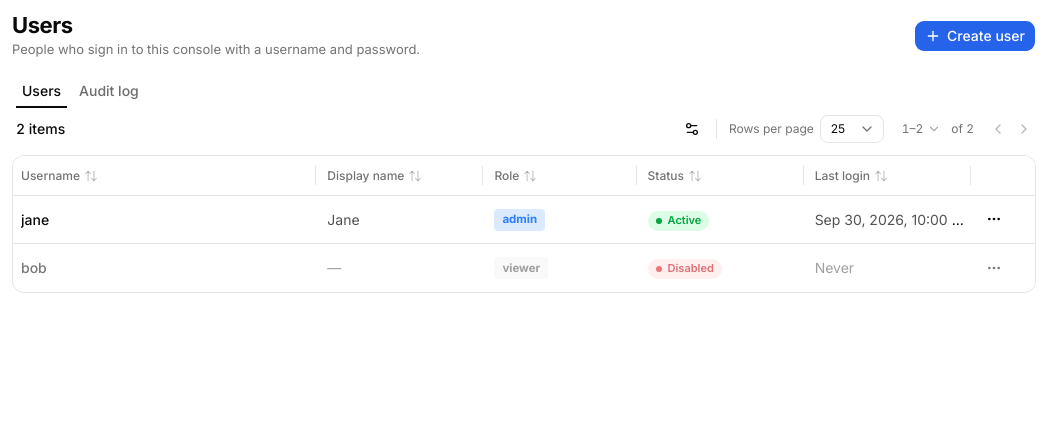
Test case: UsersPage › shows a self-action 409 message from the server
Check: the text "jane" is shown, box [21, 210, 49, 228]
Click the button named "Actions for jane" at (994, 219), box [982, 207, 1006, 231]
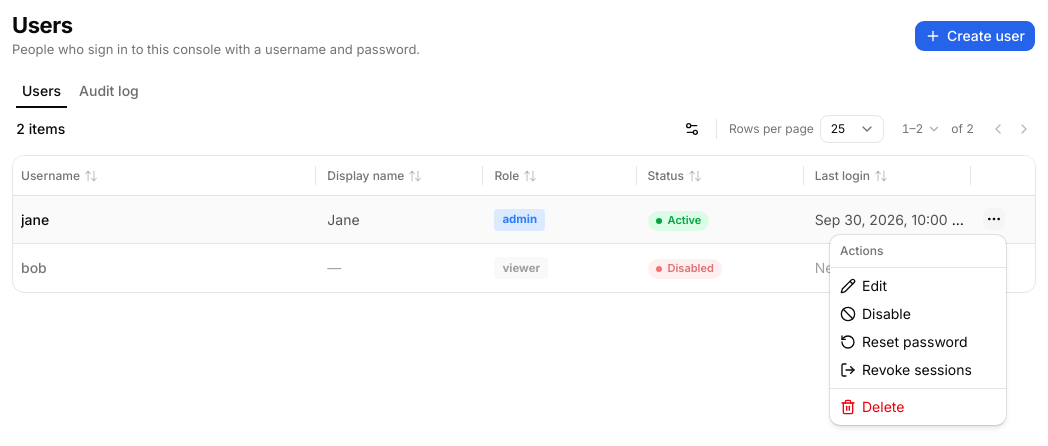
Click the menu item "Disable" at (875, 314), box [840, 305, 911, 322]
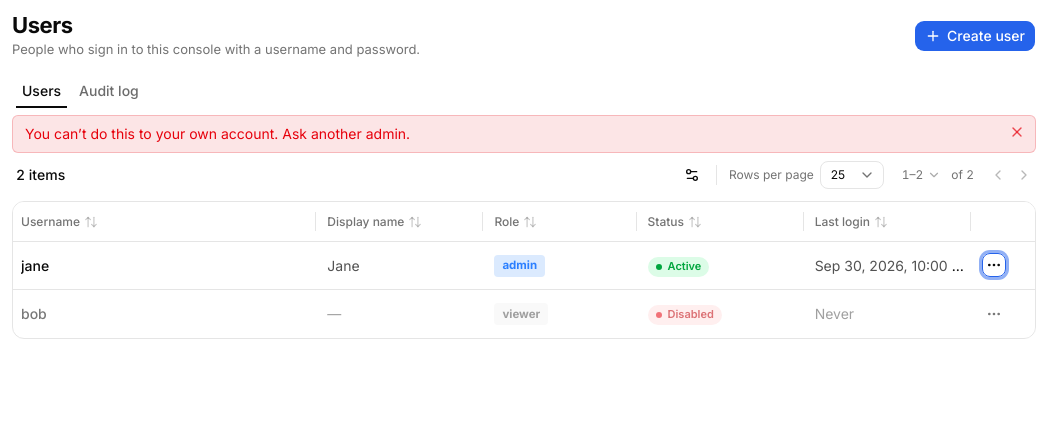
Check: the message shows "your own account", box [25, 125, 410, 142]
